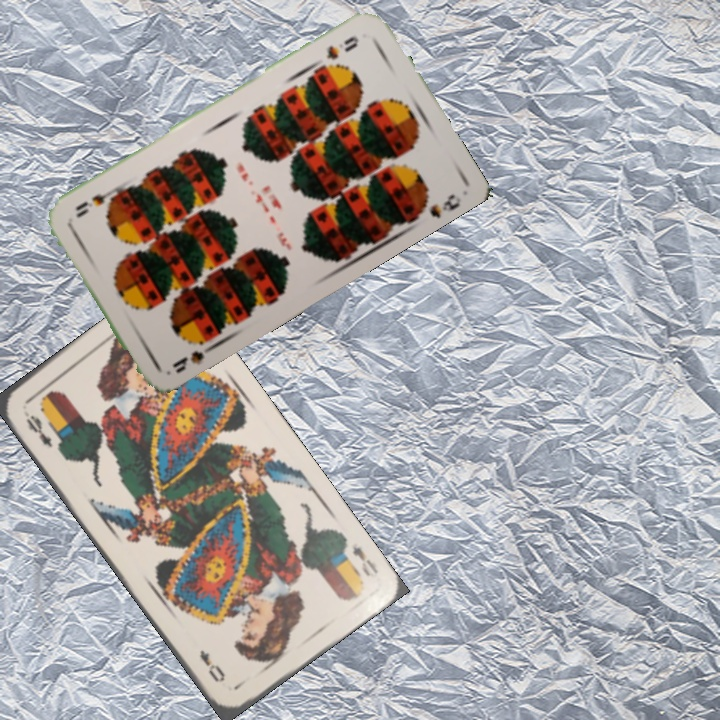EO: (19, 406, 55, 450), (348, 538, 381, 579)
S9: (168, 332, 218, 376), (322, 32, 361, 62)
